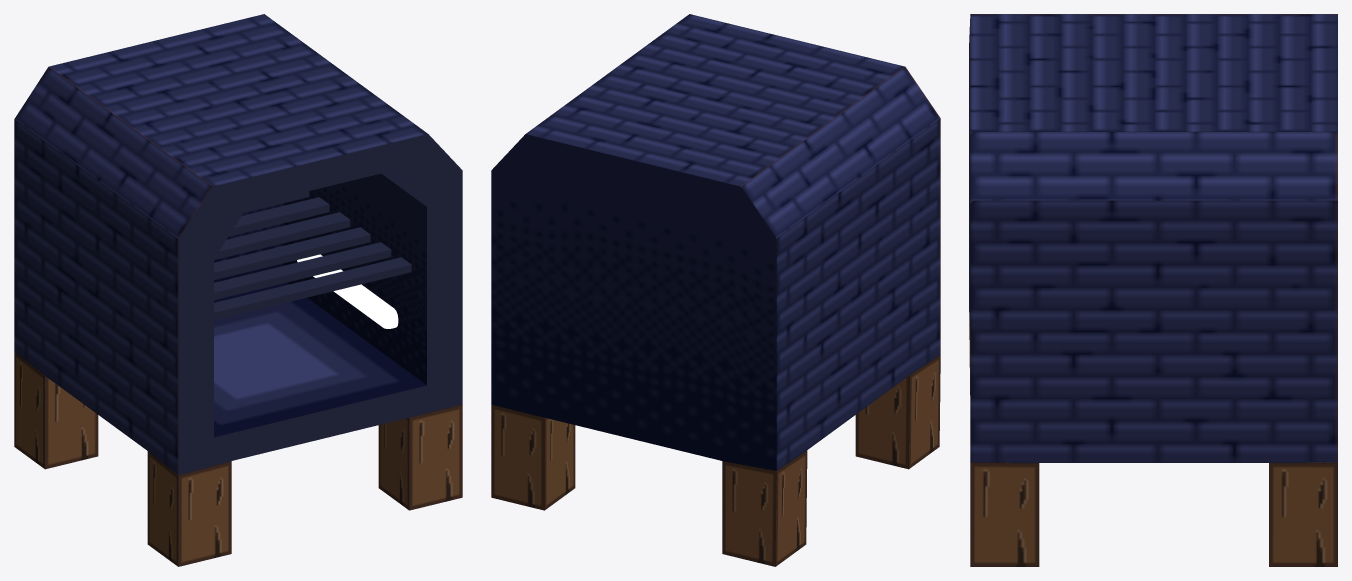
The model's file is Horno.fbx.
3 views of the same model, side by side, from view 1: azimuth 30°, elevation 25°; view 2: azimuth 150°, elevation 25°; view 3: azimuth 270°, elevation 25° (orthographic). The views are drawn at different scales.
Parts seen in each view (by area): view 1: Horno; view 2: Horno; view 3: Horno.
Part boxes in pixels (x1,y1,x2,y2): Horno: (14,14,462,566); Horno: (491,14,940,566); Horno: (969,14,1337,566).
Size of the model in its own units: 801 by 803 by 1000.
Materials: 3 (1 with a texture image).
